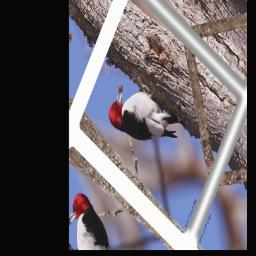Woodpecker: (105, 62, 183, 176)
